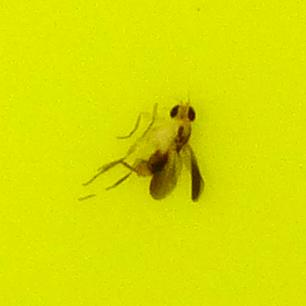Brachycera: (100, 100, 206, 206)
